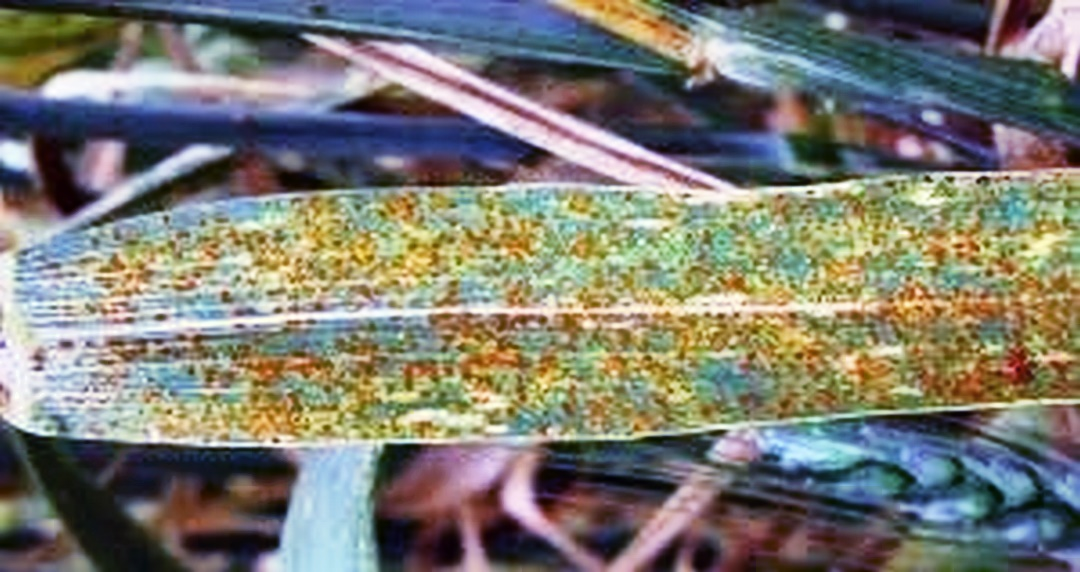Leaf Rust: (149, 177, 749, 451)
